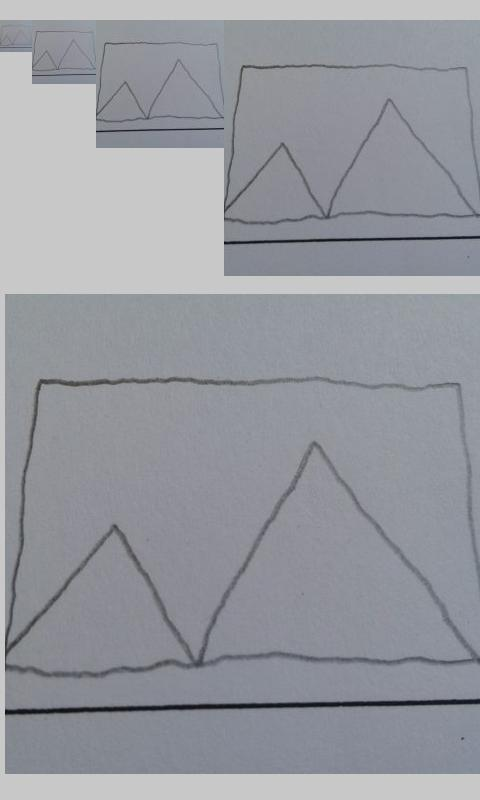image_view: (13, 374, 478, 681), (225, 62, 480, 224), (97, 40, 224, 123), (33, 30, 96, 72), (1, 24, 32, 46)
